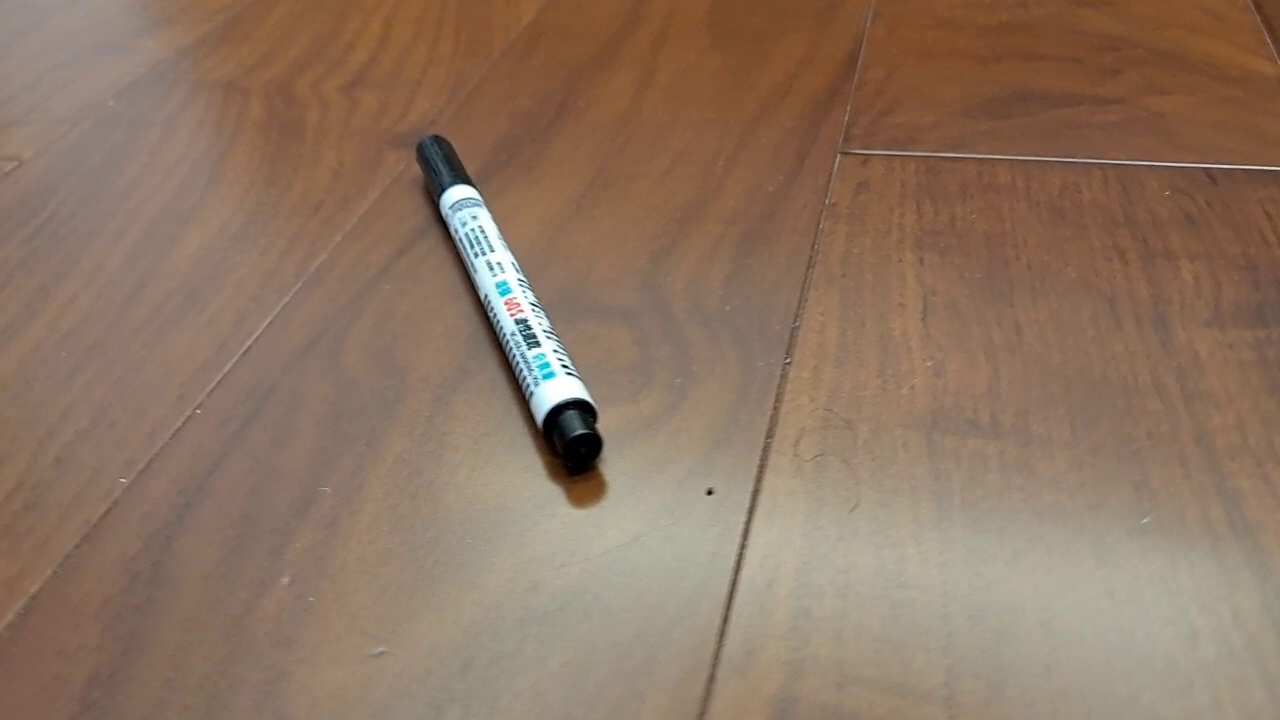pen: (414, 132, 604, 476)
